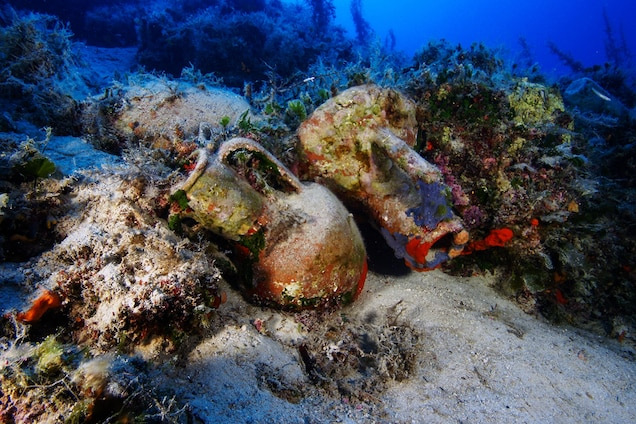amphora: (168, 136, 369, 311), (297, 83, 469, 269), (565, 76, 636, 128)
